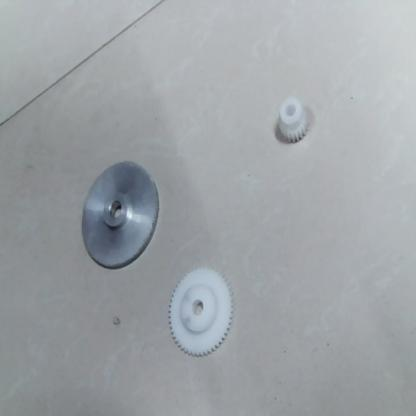FOD: (80, 154, 161, 272), (168, 268, 235, 359), (274, 98, 312, 142)
